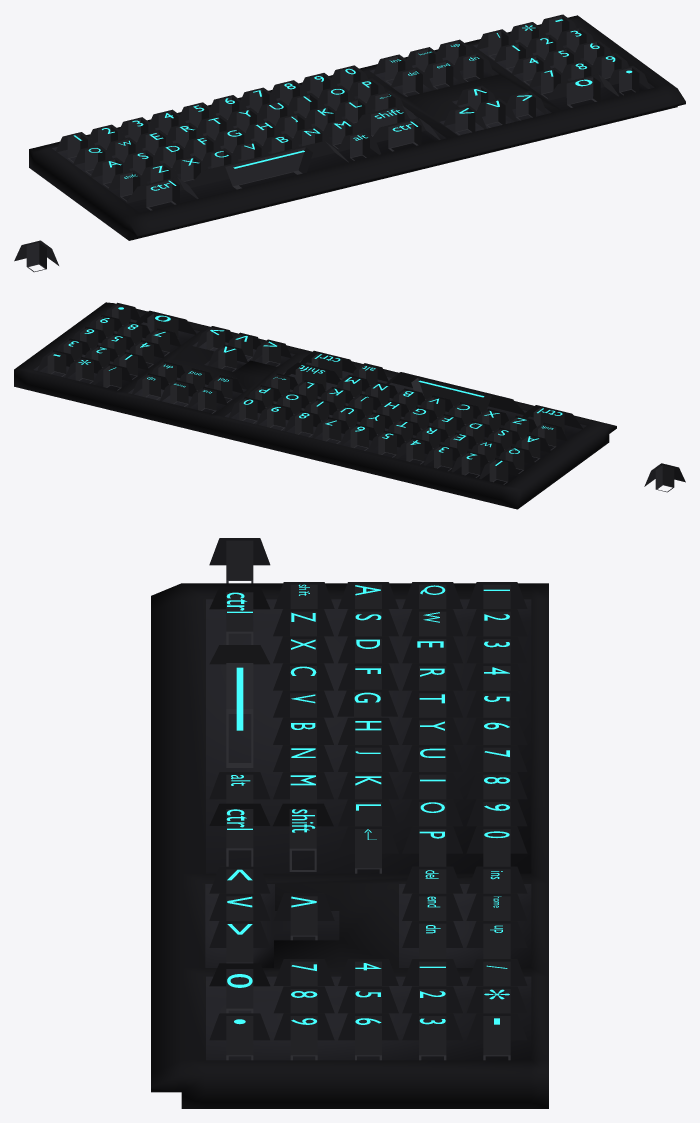
File: teclado.glb
3 views of the same model, one above another, from view 1: azimuth 30°, elevation 25°; view 2: azimuth 150°, elevation 25°; view 3: azimuth 270°, elevation 25° (orthographic). The views are drawn at different scales.
Parts seen in each view (by area): view 1: teclado, space, 0B, control2, control, shift_2, BASE, izquierda, del, alt, Punto, abajo (+57 smaller); view 2: teclado, space, 0B, control2, shift_2, control, BASE, 1, izquierda, arriba, division, ins (+57 smaller); view 3: teclado, space, shift_2, control, control2, 0B, 9B, 3B, Punto, resta, arriba, enter (+57 smaller).
Boxes of the visible parts, x1,y1,x2,y2 form: teclado: (29, 15, 685, 240); space: (189, 141, 348, 189); 0B: (547, 74, 618, 107); control2: (126, 177, 198, 210); control: (372, 118, 440, 151); shift_2: (355, 105, 416, 136); BASE: (14, 240, 58, 272); izquierda: (443, 105, 486, 135); del: (391, 67, 433, 96); alt: (338, 131, 380, 160); Punto: (608, 65, 650, 95); abajo: (477, 98, 516, 127); teclado: (14, 302, 616, 509); space: (386, 372, 524, 414); 0B: (136, 310, 196, 338); control2: (522, 405, 582, 432); shift_2: (284, 362, 340, 390); control: (300, 350, 356, 379); BASE: (644, 463, 685, 492); 1: (479, 457, 518, 484); izquierda: (252, 339, 291, 366); arriba: (208, 344, 247, 371); division: (93, 363, 132, 390); ins: (187, 386, 227, 413); teclado: (151, 583, 548, 1108); space: (209, 645, 269, 767); shift_2: (273, 803, 333, 871); control: (209, 803, 270, 866); control2: (209, 587, 269, 644); 0B: (209, 963, 270, 1013); 9B: (274, 1013, 334, 1060); 3B: (402, 1013, 462, 1060); Punto: (209, 1013, 269, 1060); resta: (466, 1013, 527, 1060); arriba: (273, 893, 334, 940); enter: (338, 826, 398, 873).
Size of what is drawn, in the model's own units: 22.15 by 1.73 by 6.5.
